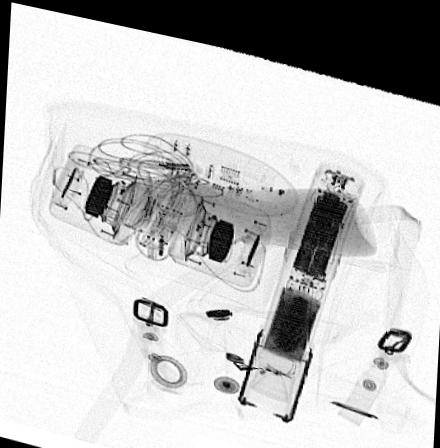Baton: (237, 148, 364, 411)
